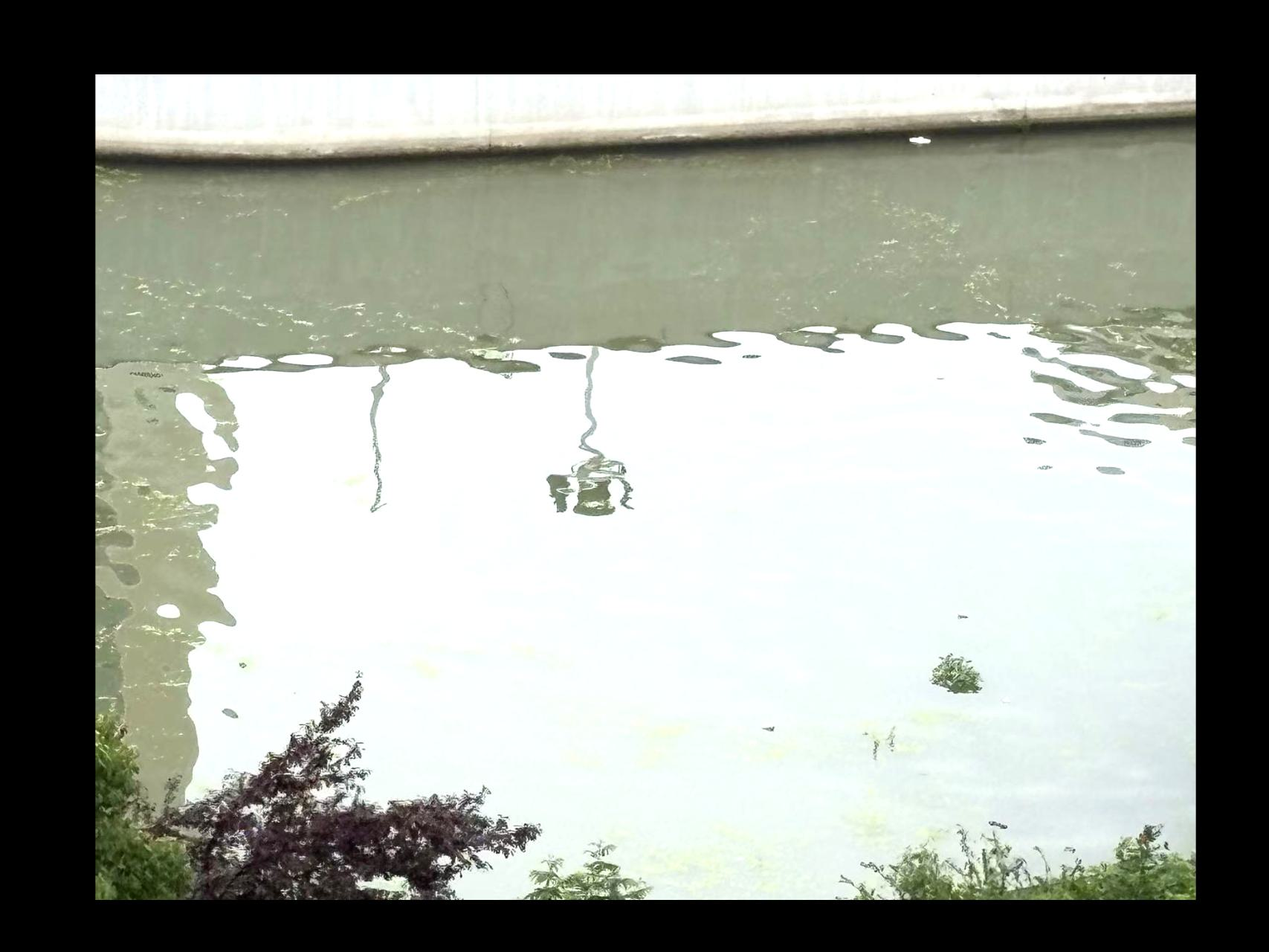Natural wastes: (932, 652, 981, 693)
Plastic wastes: (909, 134, 931, 144), (762, 723, 774, 731), (960, 611, 968, 617), (1001, 698, 1009, 702)
